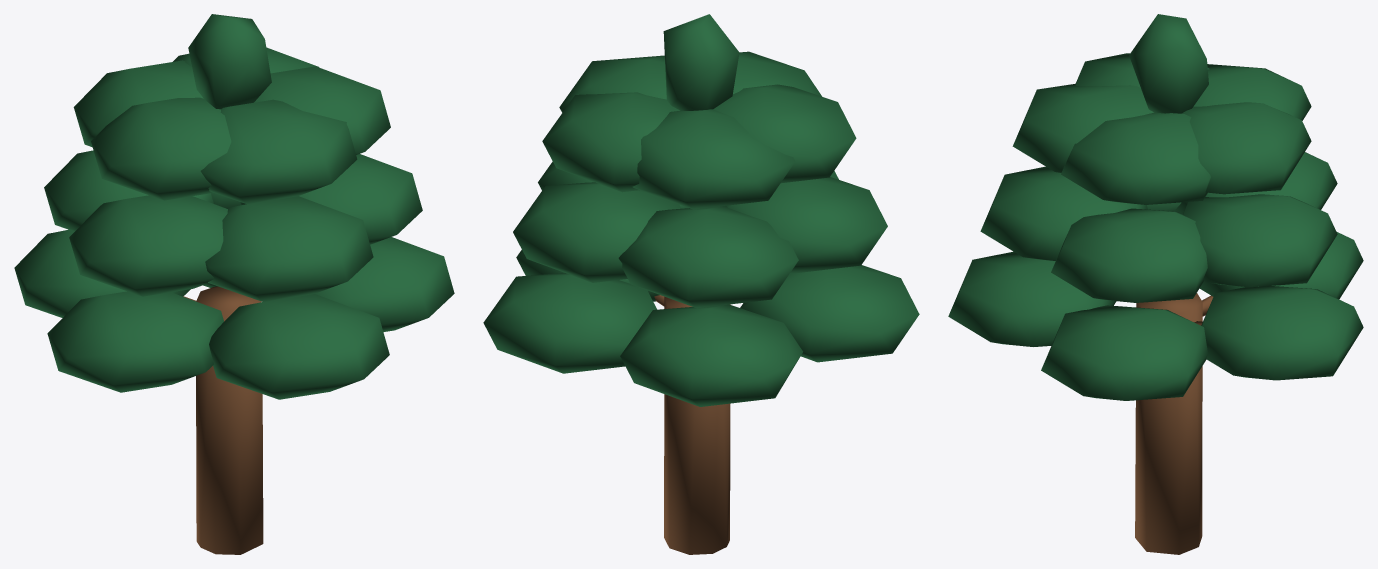
The model's file is org_conifer.glb.
The picture shows the model from 3 angles, left to right: view 1: azimuth 30°, elevation 25°; view 2: azimuth 150°, elevation 25°; view 3: azimuth 270°, elevation 25°; orthographic projection.
Parts seen in each view (by area): view 1: Foliage, Trunk; view 2: Foliage, Trunk; view 3: Foliage, Trunk.
Boxes of the visible parts, x1,y1,x2,y2 form: Foliage: [14, 14, 454, 399]; Trunk: [183, 286, 263, 554]; Foliage: [483, 14, 919, 406]; Trunk: [654, 295, 730, 554]; Foliage: [948, 14, 1363, 400]; Trunk: [1135, 293, 1213, 554].
Bounding box in the file's own units: 1.98 × 2.6 × 1.87.
